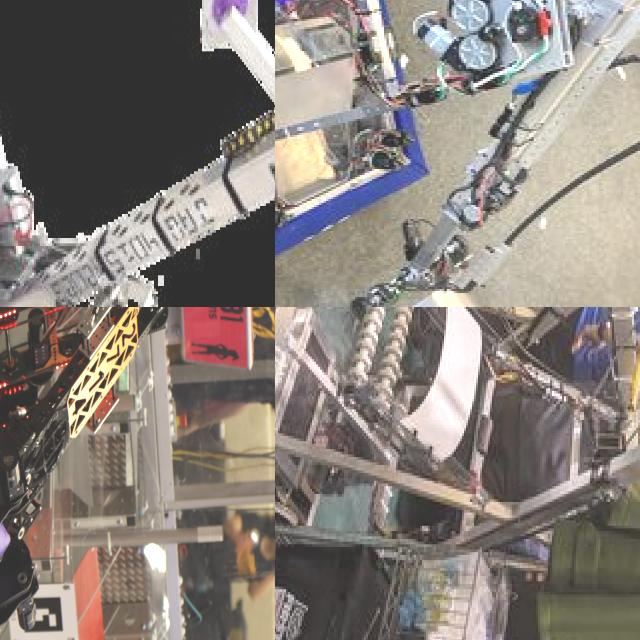FRC-Robots: (275, 0, 640, 307), (275, 307, 640, 569), (0, 0, 275, 307), (0, 307, 182, 640)
